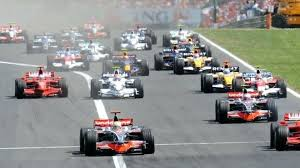FormulaOneCar: (78, 108, 158, 162), (210, 87, 282, 124), (88, 65, 148, 102), (14, 64, 71, 102), (231, 65, 291, 99), (196, 58, 248, 92), (171, 48, 224, 77), (101, 51, 153, 77), (49, 46, 91, 73), (162, 24, 207, 45), (26, 32, 63, 56), (114, 30, 154, 52)
